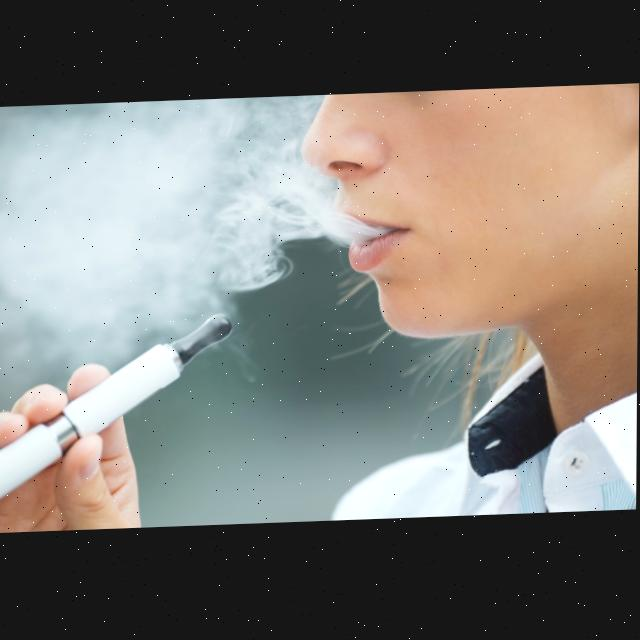vape: (0, 315, 234, 504)
